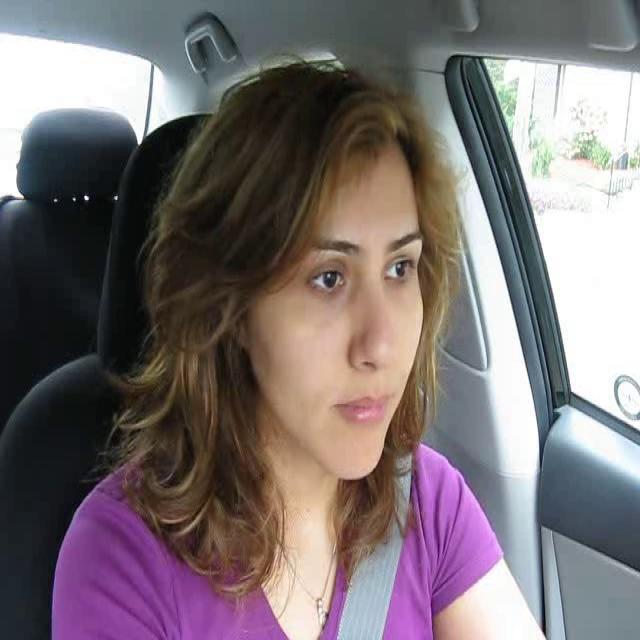close: (333, 390, 394, 430)
